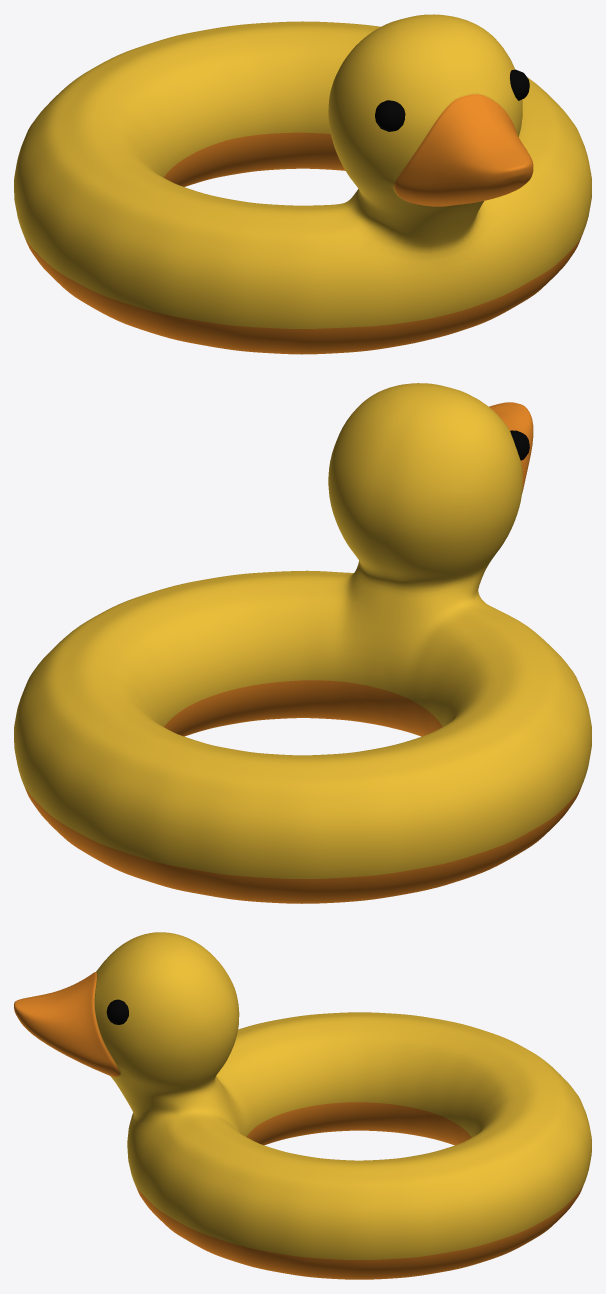
Rendered from Gummi_Ente.fbx.
3 views of the same model, one above another, from view 1: azimuth 30°, elevation 25°; view 2: azimuth 150°, elevation 25°; view 3: azimuth 270°, elevation 25° (orthographic). The views are drawn at different scales.
Visible parts, largest first — view 1: Duck, Duck_Augen; view 2: Duck; view 3: Duck, Duck_Augen.
Part boxes in pixels (<box>): Duck: <box>14,14,591,354</box>; Duck_Augen: <box>375,69,529,131</box>; Duck: <box>14,383,591,903</box>; Duck: <box>14,932,591,1279</box>; Duck_Augen: <box>106,999,128,1024</box>.
Size of the model in its own units: 90.02 by 55.12 by 112.
